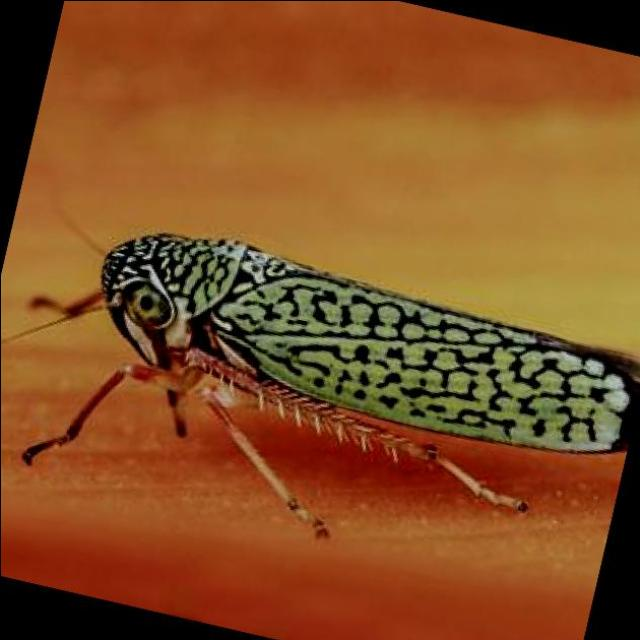green leaf hopper: (21, 233, 640, 534)
